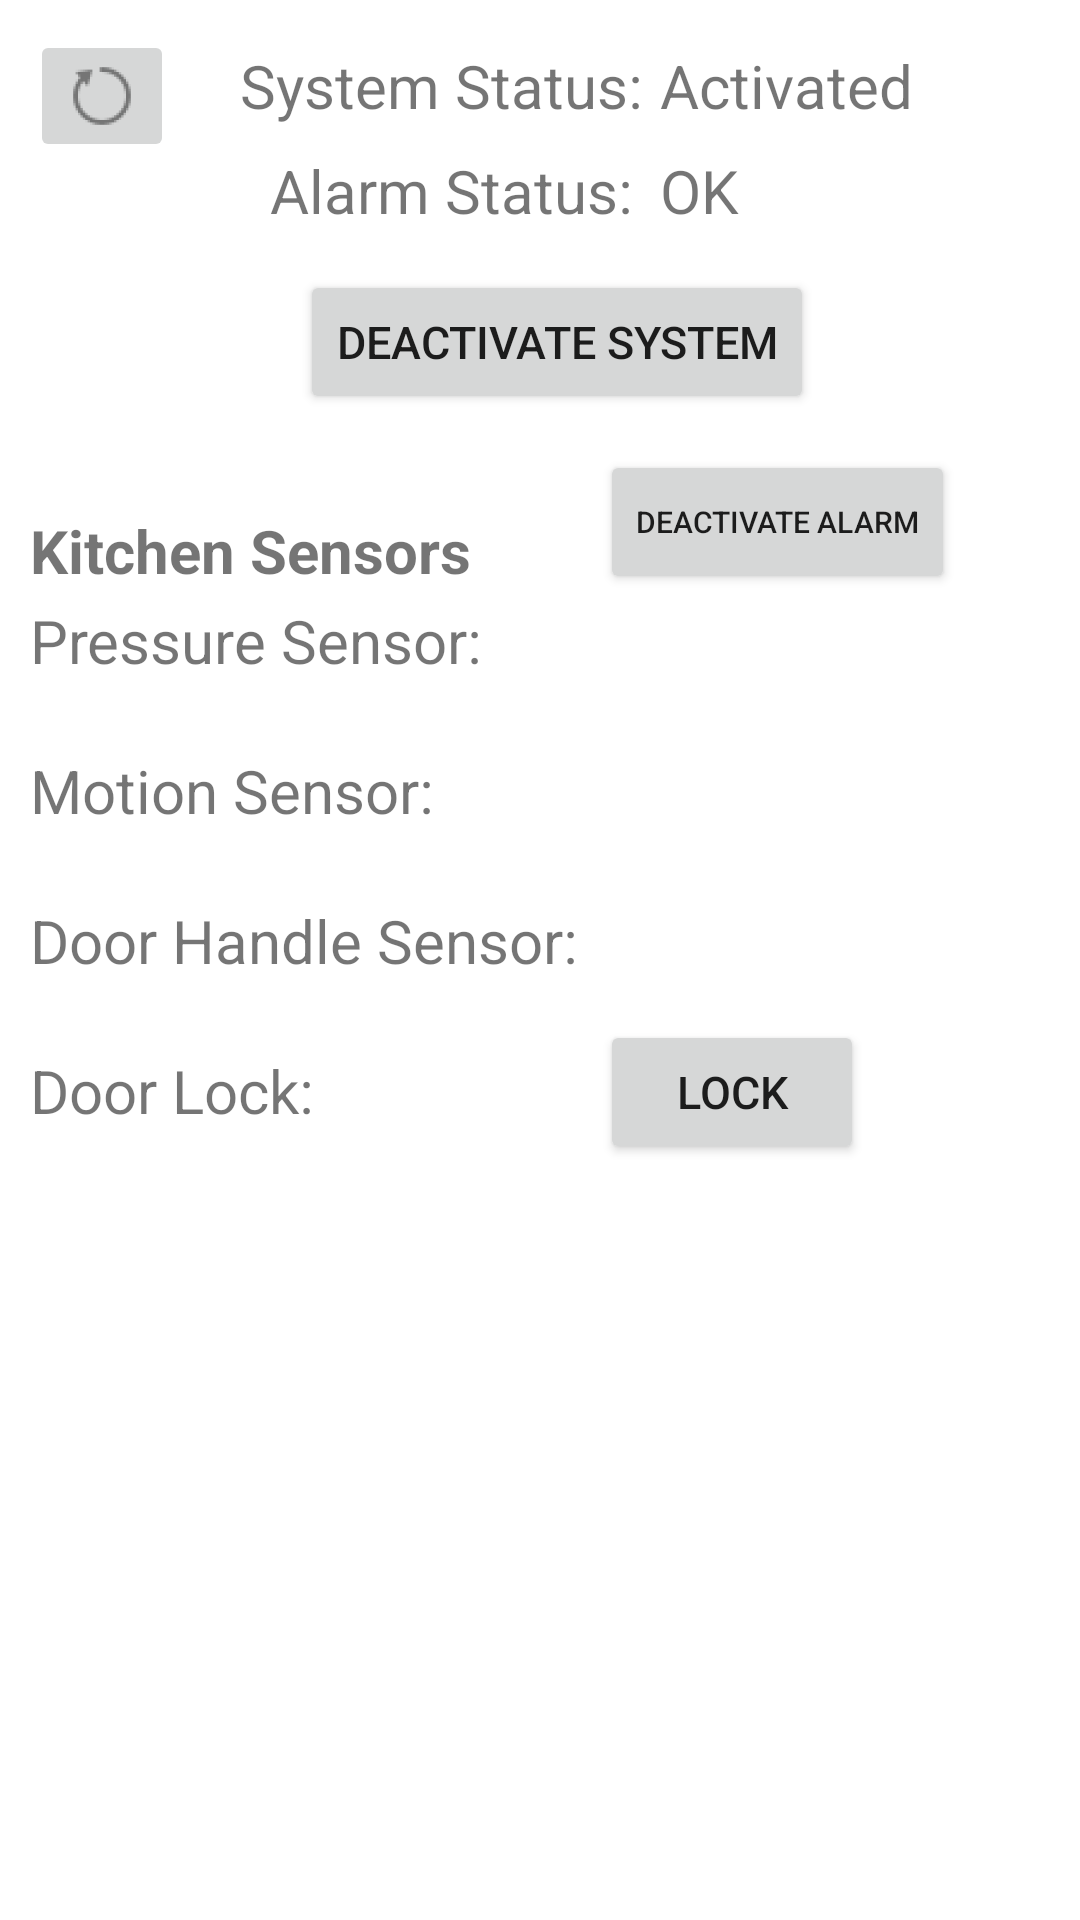

Icons on this 1080 x 1920 Android screen, each with the point to tap as point (x, y):
refresh: point (102, 96)
